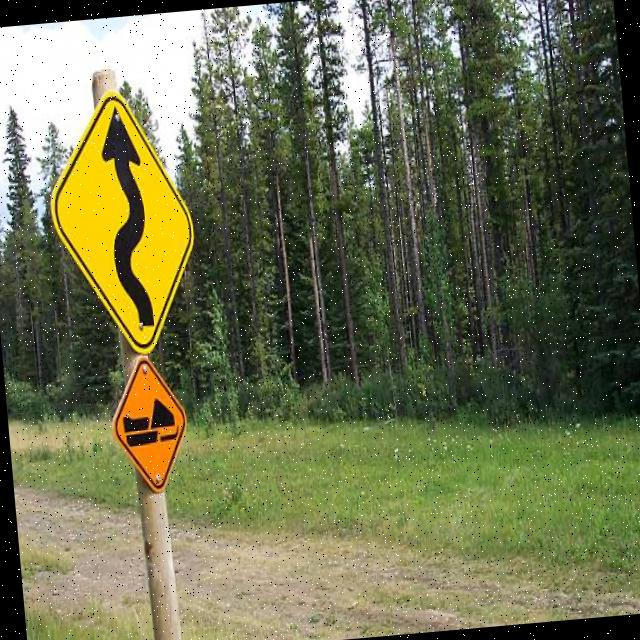left_sharp_curve: (33, 79, 206, 364)
